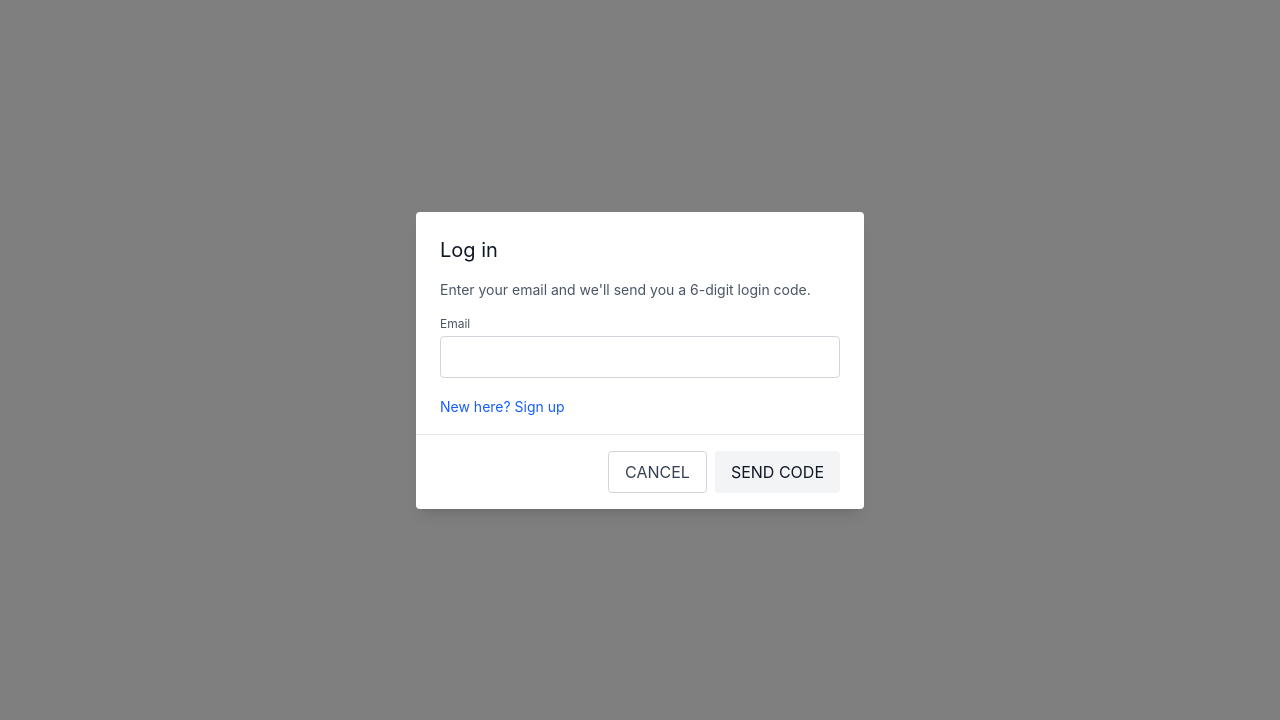
Test case: GuestSignInDialog › shows an error for a bad code and stays open
The image size is (1280, 720).
Step 1. Type "a@b.c" into the field labelled "Email" → (640, 356), box [440, 336, 840, 378]
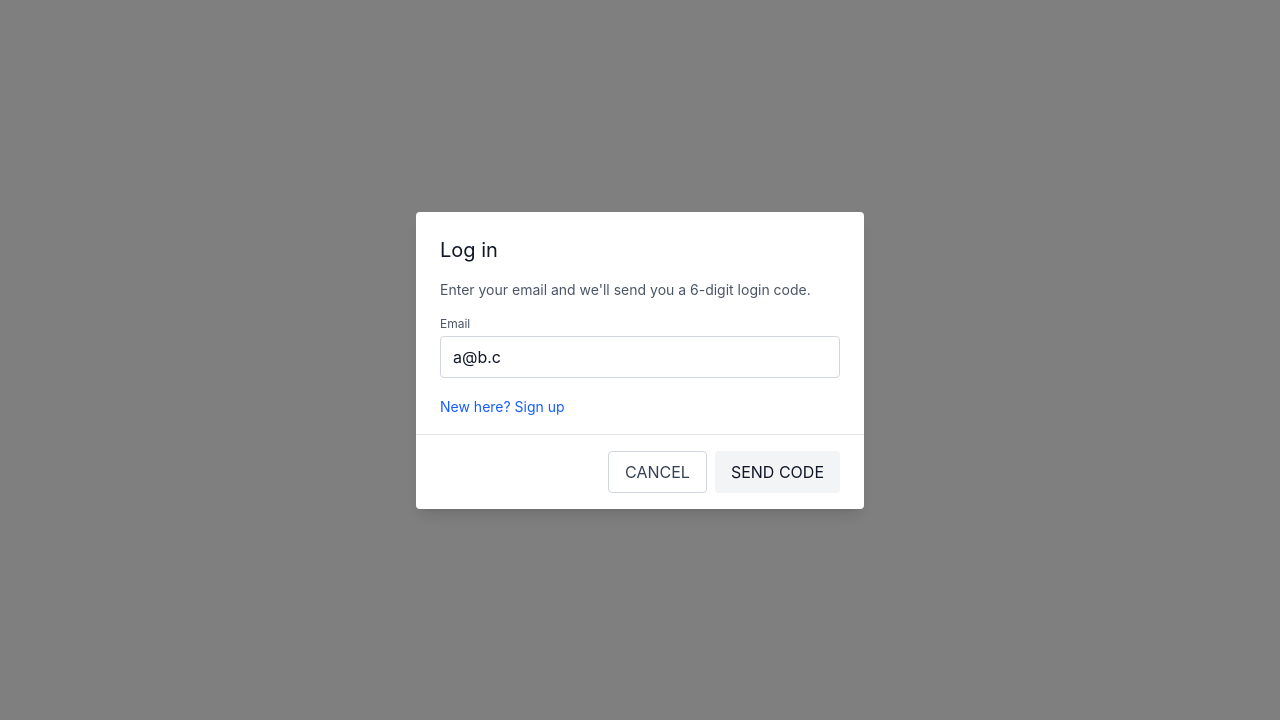
Step 2. Click the button "SEND CODE" → (777, 472), box [715, 450, 840, 492]
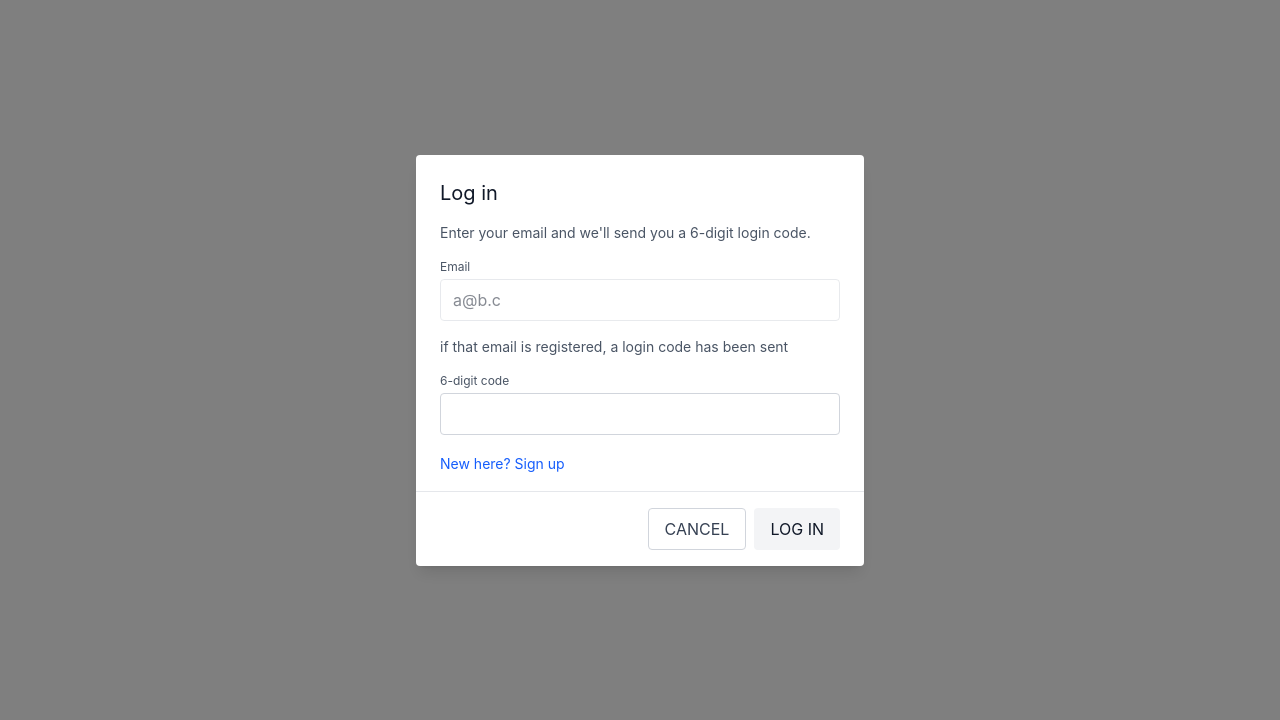
Step 3. Type "000000" into the field labelled "6-digit code" → (640, 414), box [440, 392, 840, 434]
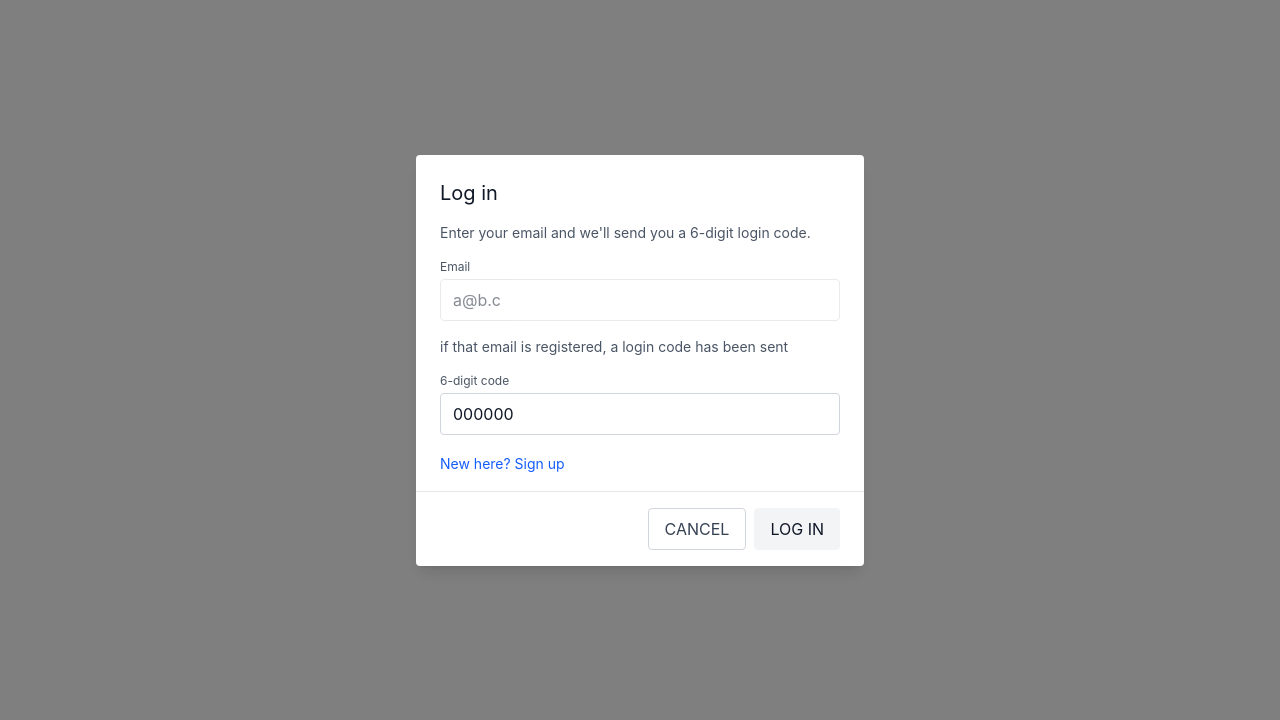
Step 4. Click the button "LOG IN" → (797, 528), box [754, 508, 840, 550]
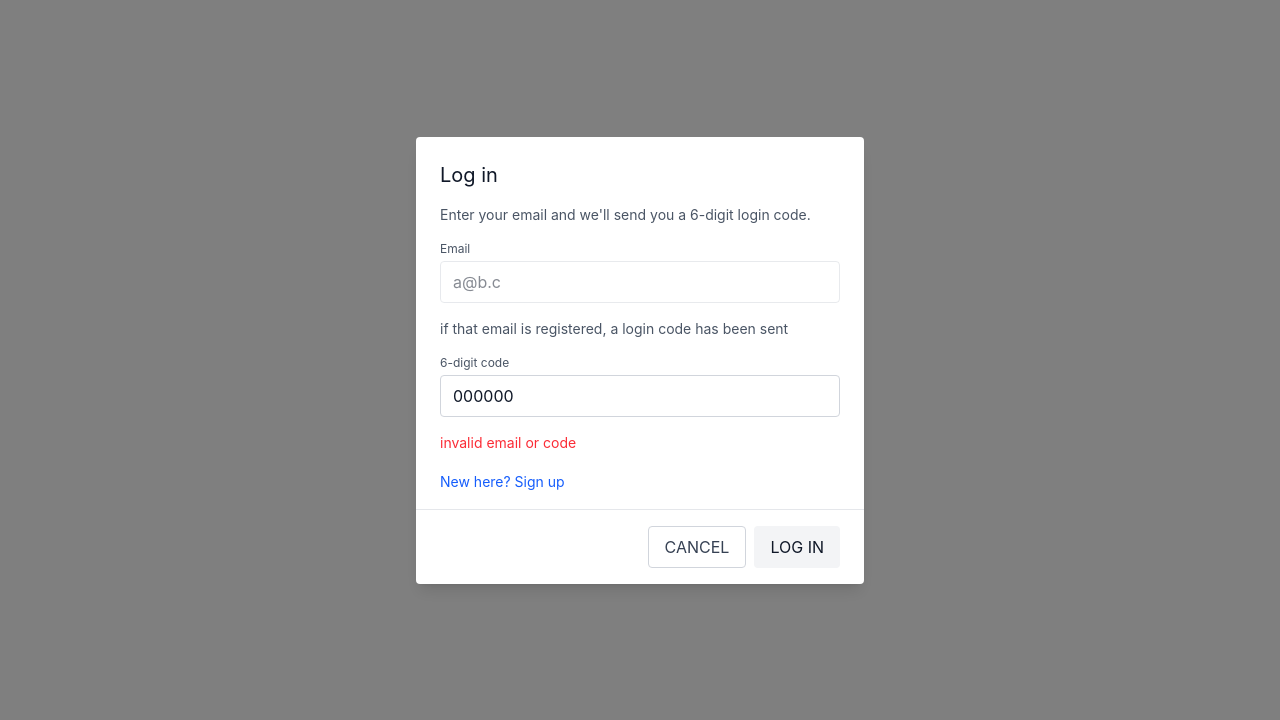
Expected: the text "invalid email or code" is shown, [440, 434, 576, 450]
